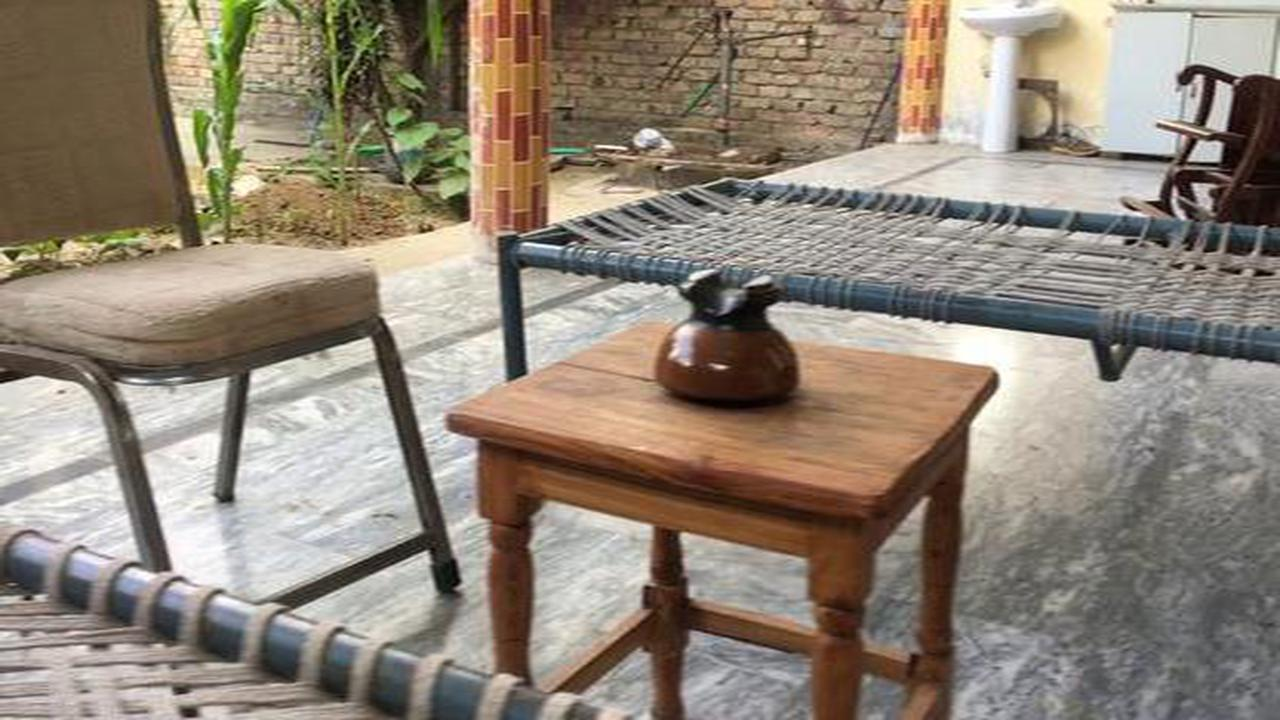insulator_pin: (634, 248, 813, 421)
